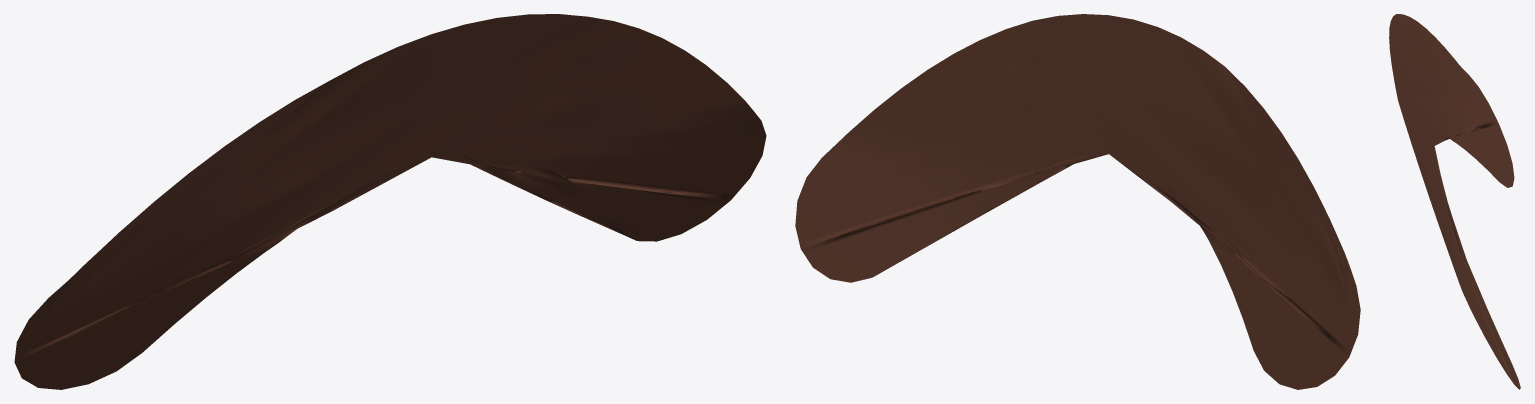
File: mouth_pout.glb
3 views of the same model, side by side, from view 1: azimuth 30°, elevation 25°; view 2: azimuth 150°, elevation 25°; view 3: azimuth 270°, elevation 25° (orthographic). The views are drawn at different scales.
Visible parts, largest first — view 1: Cat_mouth_pout.001; view 2: Cat_mouth_pout.001; view 3: Cat_mouth_pout.001.
Boxes of the visible parts, x1,y1,x2,y2 form: Cat_mouth_pout.001: (14, 14, 766, 389); Cat_mouth_pout.001: (795, 14, 1360, 389); Cat_mouth_pout.001: (1389, 14, 1520, 389).
Bounding box in the file's own units: 0.0275 × 0.0125 × 0.00607.
